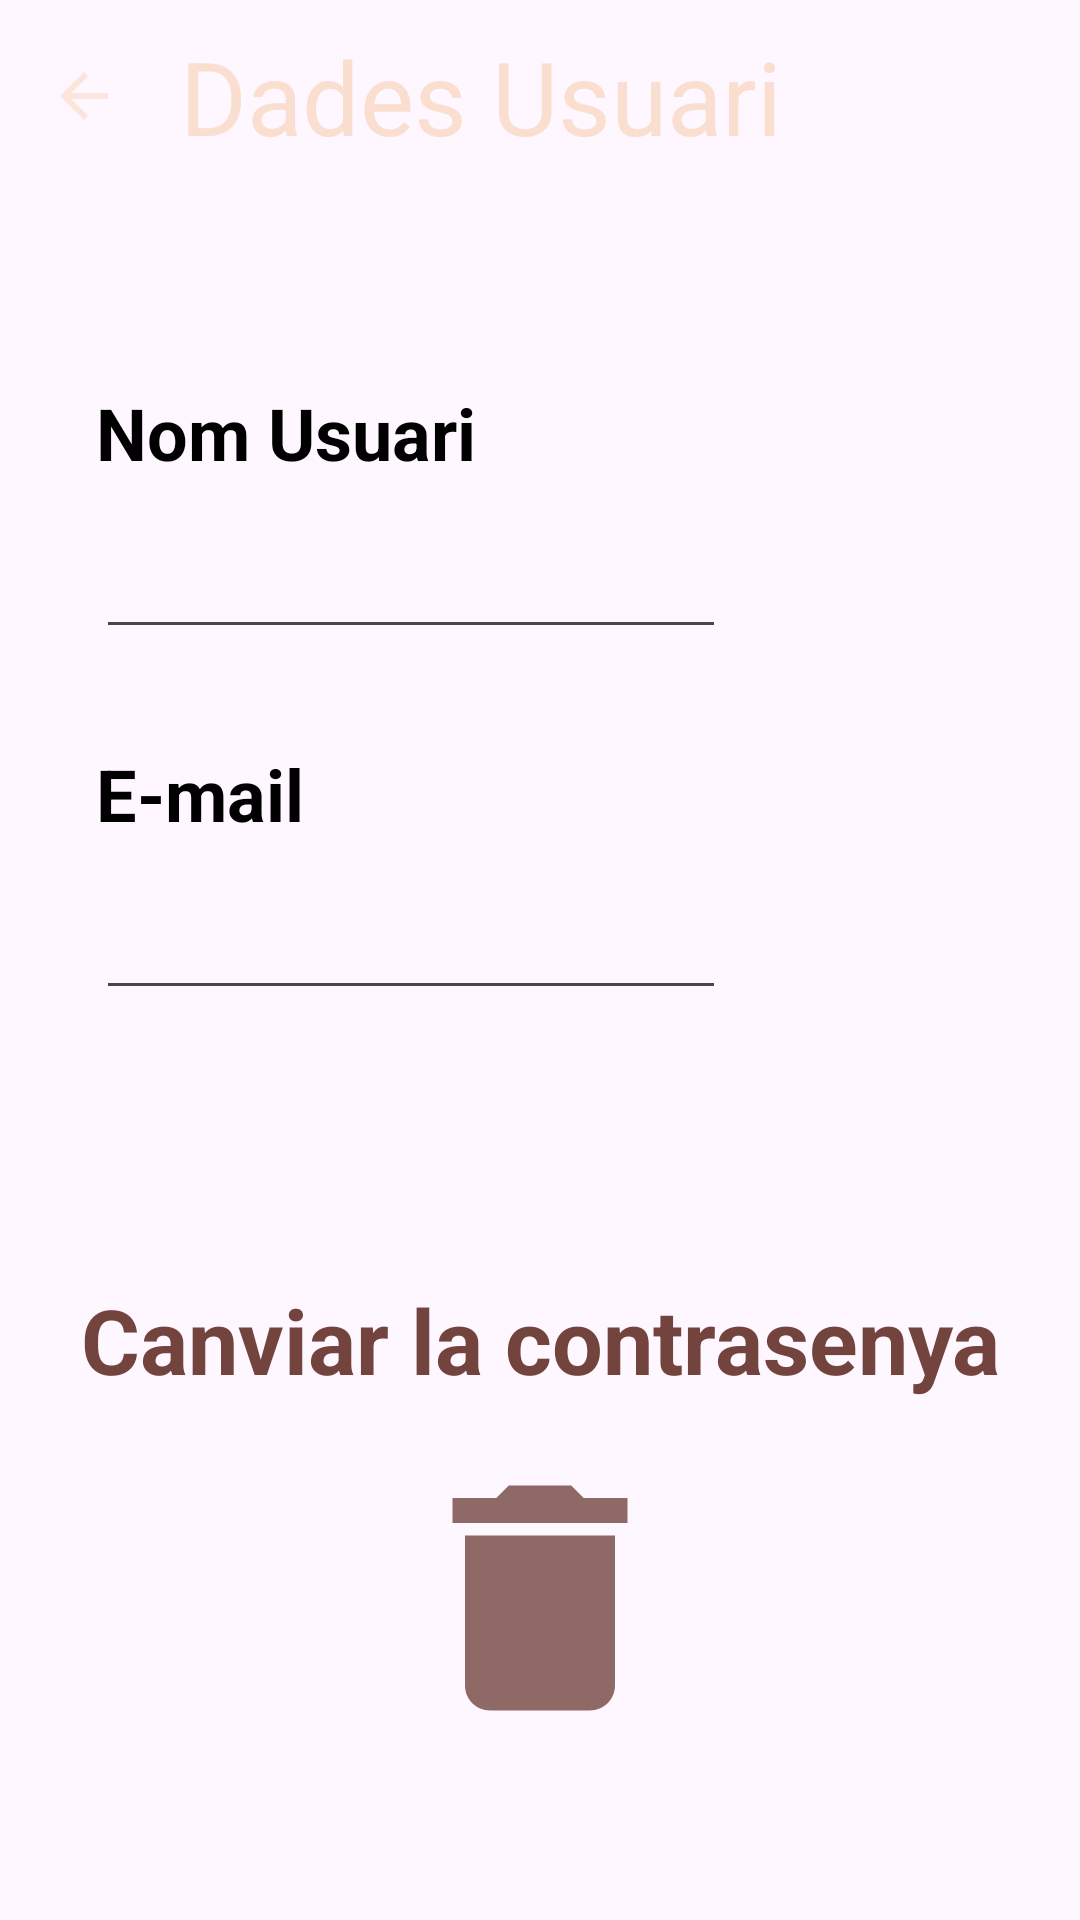

Named icons in this screenshot (1080px x 1920px) and their bounding boxes, (x1, y1, x2, y2):
delete: (452, 1485, 628, 1711)
